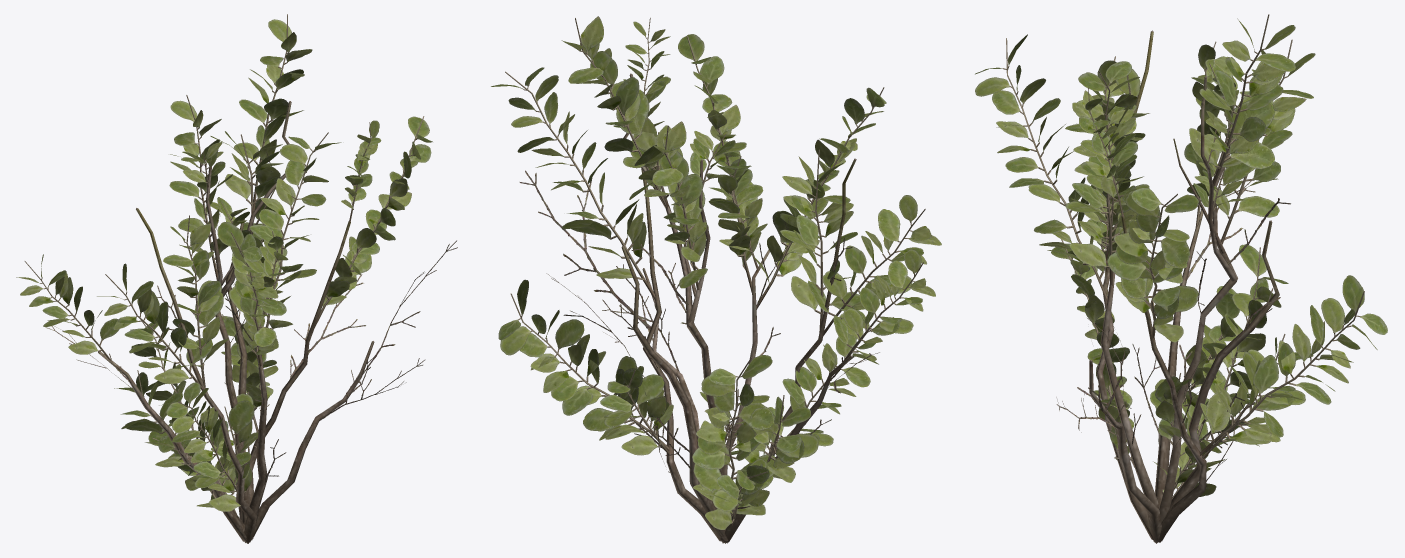
The model's file is bush-small.glb.
3 renders of one model, left to right at view 1: azimuth 30°, elevation 25°; view 2: azimuth 150°, elevation 25°; view 3: azimuth 270°, elevation 25°, orthographic. The views are drawn at different scales.
Parts seen in each view (by area): view 1: searsia_lucida_f_LOD0; view 2: searsia_lucida_f_LOD0; view 3: searsia_lucida_f_LOD0.
Part boxes in pixels (x1,y1,x2,y2): searsia_lucida_f_LOD0: (16, 14, 457, 543); searsia_lucida_f_LOD0: (491, 16, 941, 543); searsia_lucida_f_LOD0: (975, 14, 1387, 543).
Size of the model in its own units: 0.6576 by 0.7386 by 0.4832.
Materials: 2 (2 with a texture image).
